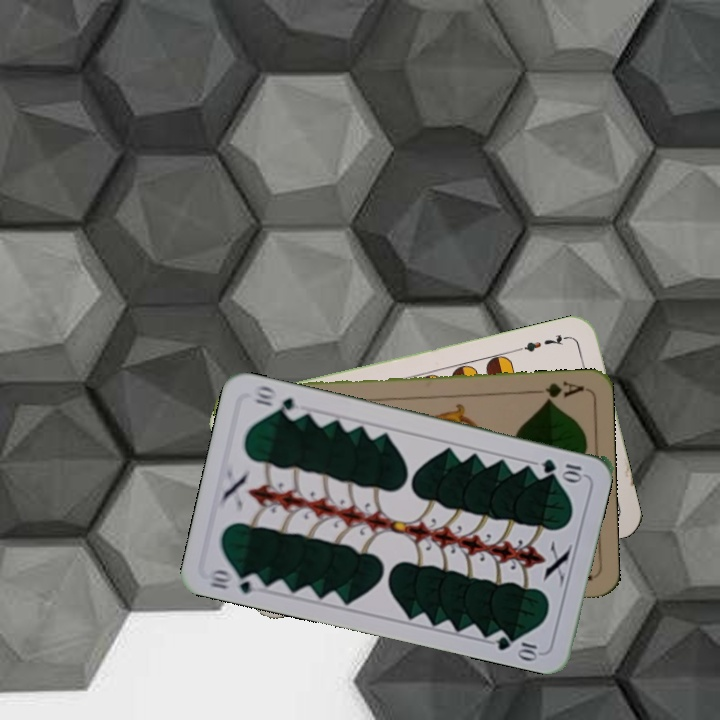E7: (514, 330, 573, 355)
G10: (204, 565, 265, 597), (538, 455, 585, 483)
GA: (528, 377, 587, 405)
